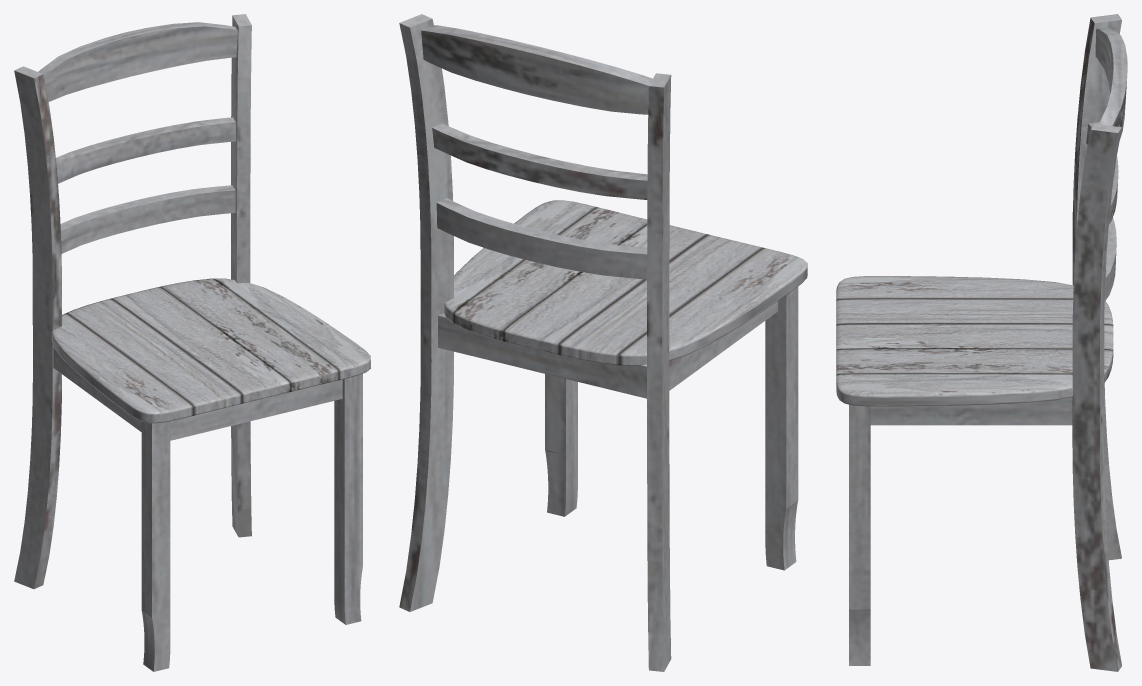
Rendered from kitchenChair.glb.
3 renders of one model, left to right at view 1: azimuth 30°, elevation 25°; view 2: azimuth 150°, elevation 25°; view 3: azimuth 270°, elevation 25°, orthographic. The views are drawn at different scales.
Visible parts, largest first — view 1: Plane_Plane.003, Cube.001_Cube.007; view 2: Plane_Plane.003, Cube.001_Cube.007; view 3: Plane_Plane.003, Cube.001_Cube.007.
Boxes of the visible parts, <box> form: Plane_Plane.003: <box>14,14,362,671</box>; Cube.001_Cube.007: <box>51,278,370,423</box>; Plane_Plane.003: <box>399,14,798,671</box>; Cube.001_Cube.007: <box>444,200,807,365</box>; Plane_Plane.003: <box>849,14,1127,671</box>; Cube.001_Cube.007: <box>836,276,1113,406</box>.
Size of the model in its own units: 0.43 by 0.9097 by 0.4401.
Materials: 2 (2 with a texture image).
